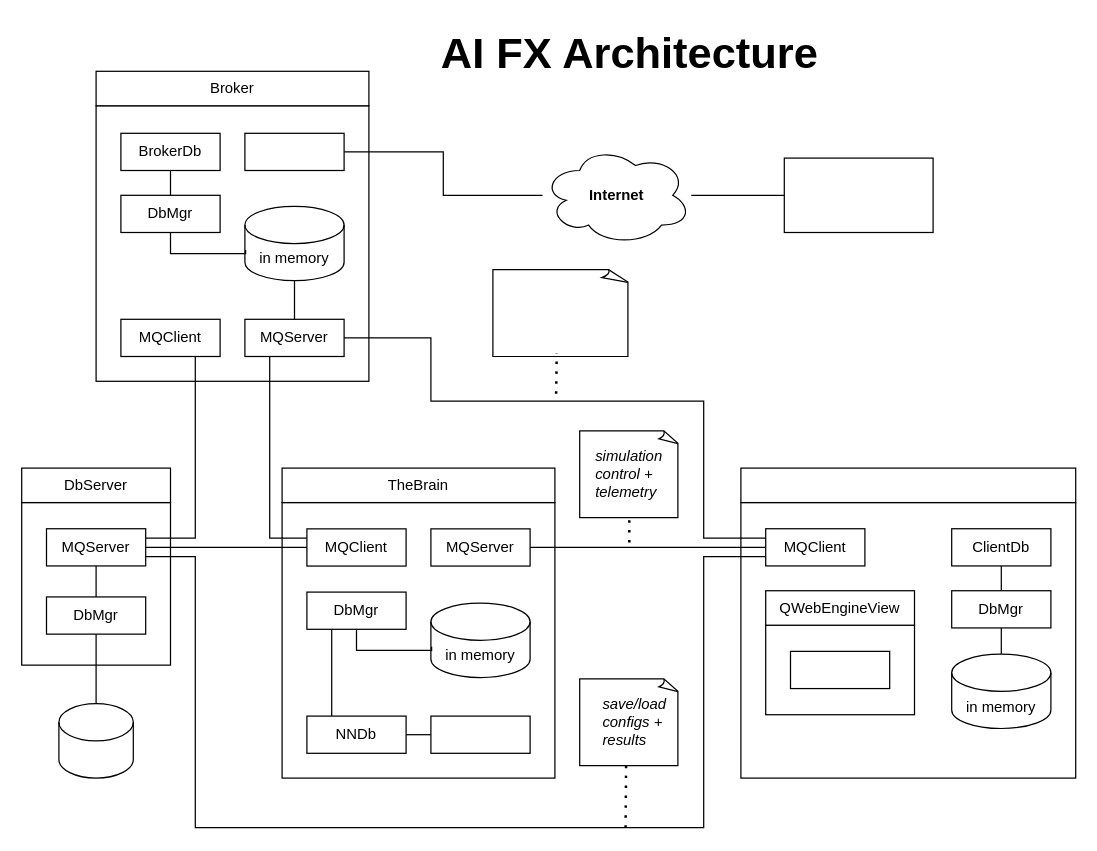
Some shapes in this 1097 by 851 pixel diagram are drawn without their labels. Here are the shapes that lost their labels. From the top down, the box of each, then its label:
(244, 132, 344, 170): OandaMgr
(783, 157, 933, 232): OANDA
(492, 268, 629, 356): broker control + candle and price stream
(740, 467, 1076, 503): ClientQt
(789, 650, 890, 689): Plotly
(58, 702, 133, 778): aifx.db
(430, 715, 530, 753): NN
